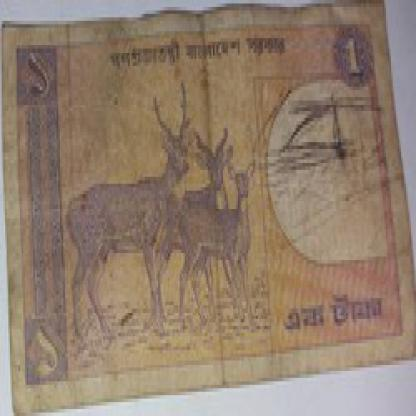One Taka: (283, 291, 384, 336), (27, 322, 65, 382), (16, 49, 56, 104), (341, 31, 366, 83)
